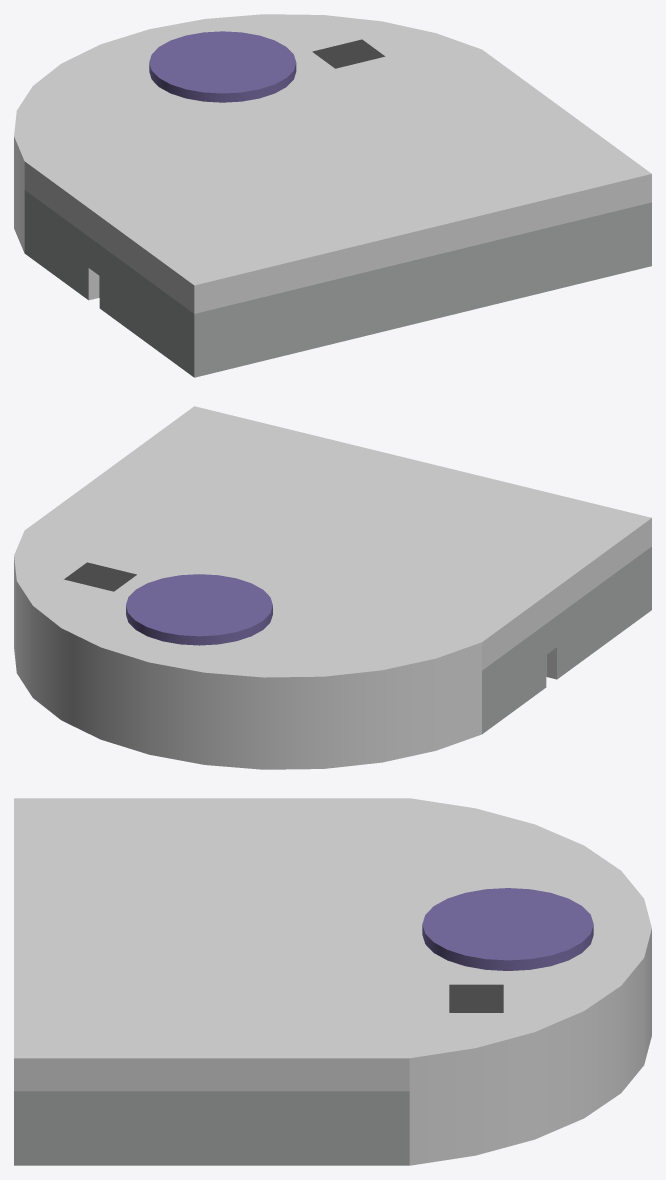
The model's file is neato.dae.
3 views of the same model, one above another, from view 1: azimuth 30°, elevation 25°; view 2: azimuth 150°, elevation 25°; view 3: azimuth 270°, elevation 25° (orthographic). The views are drawn at different scales.
Parts seen in each view (by area): view 1: botsy (×5); view 2: botsy (×5); view 3: botsy (×5).
Part boxes in pixels (box(x1,y1,x2,y2)): botsy (×5): box(14, 14, 651, 377); botsy (×5): box(14, 406, 651, 769); botsy (×5): box(14, 798, 651, 1165).
Bounding box in the file's own units: 13.29 × 13.78 × 2.81.
